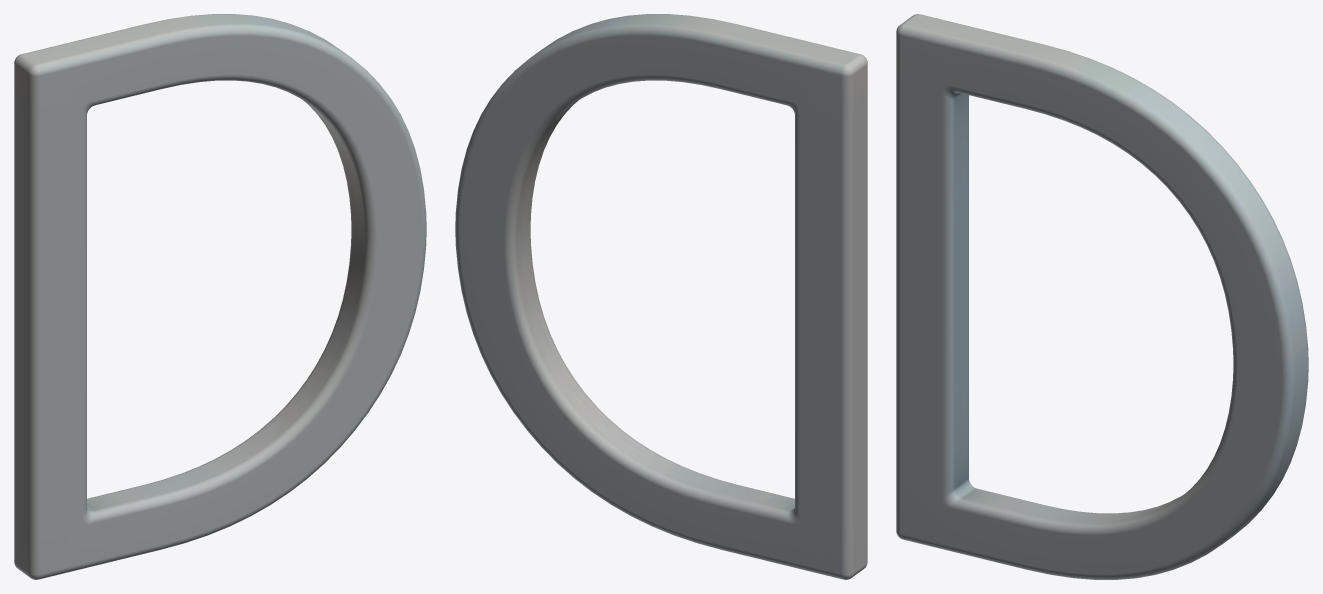
3 renders of one model, left to right at view 1: azimuth 30°, elevation 25°; view 2: azimuth 150°, elevation 25°; view 3: azimuth 330°, elevation 25°, orthographic.
Visible parts, largest first — view 1: node_id56; view 2: node_id56; view 3: node_id56.
Part boxes in pixels (bbox=[...]): node_id56: bbox=[14, 14, 426, 579]; node_id56: bbox=[455, 14, 867, 579]; node_id56: bbox=[896, 14, 1308, 579].
Bounding box in the file's own units: 0.4135 × 0.512 × 0.0395.
1 material, 1 textured.
